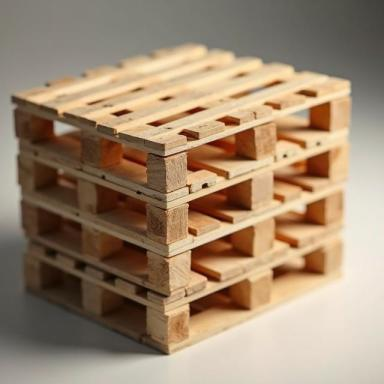pallet: (10, 41, 352, 202), (23, 232, 344, 355), (17, 138, 349, 253), (20, 186, 345, 297), (186, 135, 235, 173), (275, 206, 306, 256), (187, 187, 228, 219), (190, 286, 231, 317), (274, 159, 307, 189), (118, 192, 146, 216), (56, 169, 78, 192)
